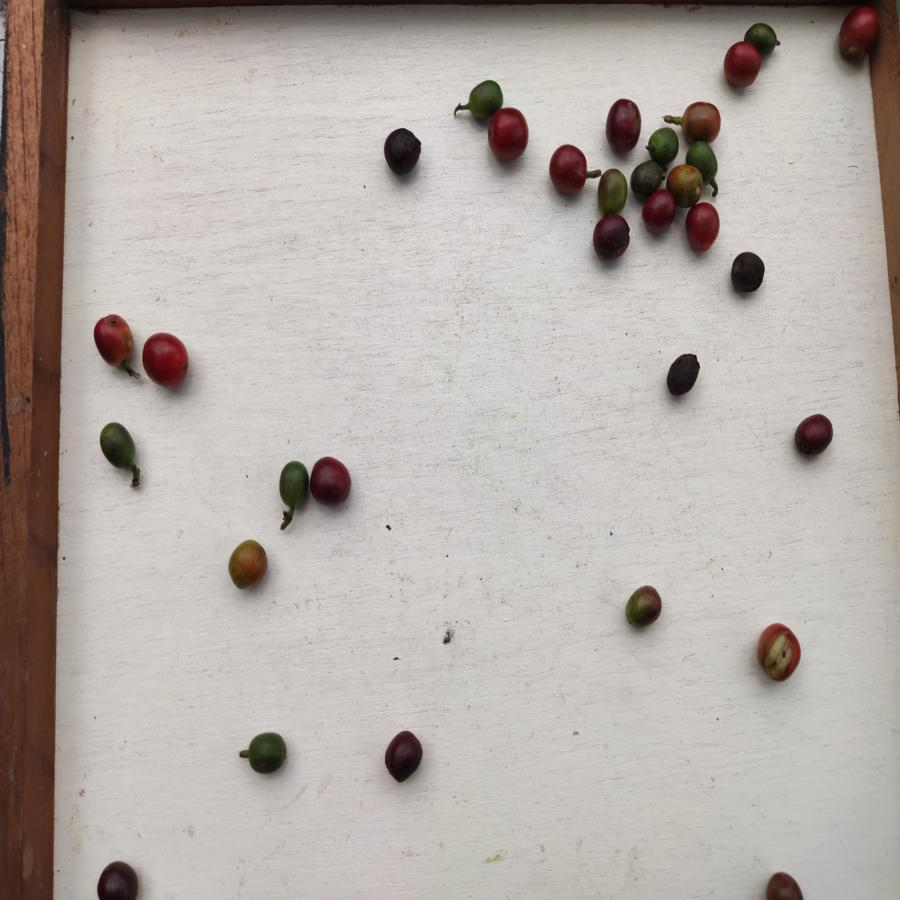Inmaduro: (97, 421, 138, 471), (248, 729, 287, 775), (278, 459, 311, 508), (647, 126, 679, 164), (469, 77, 505, 109), (681, 139, 720, 166), (631, 161, 659, 197), (745, 22, 783, 48)
Maduro: (756, 619, 801, 684), (139, 332, 192, 387), (90, 313, 136, 370), (836, 5, 877, 68), (489, 108, 530, 163), (548, 144, 589, 196), (721, 41, 762, 89), (686, 201, 720, 254)
Pinton: (224, 537, 272, 591), (621, 585, 665, 629), (667, 162, 707, 203), (598, 168, 629, 212)
Sobremaduro: (385, 729, 424, 787), (604, 96, 641, 157), (93, 857, 145, 900), (311, 455, 354, 507), (380, 128, 423, 176), (793, 411, 835, 458), (591, 213, 632, 261), (728, 249, 767, 298), (666, 352, 702, 399), (763, 866, 810, 900), (643, 193, 673, 237)
